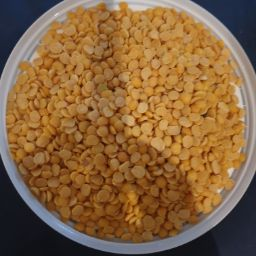Pigeon Pea(toor daal): (21, 14, 235, 256), (30, 128, 250, 250), (125, 42, 248, 235), (47, 33, 205, 174), (12, 76, 107, 210), (72, 3, 218, 80)
